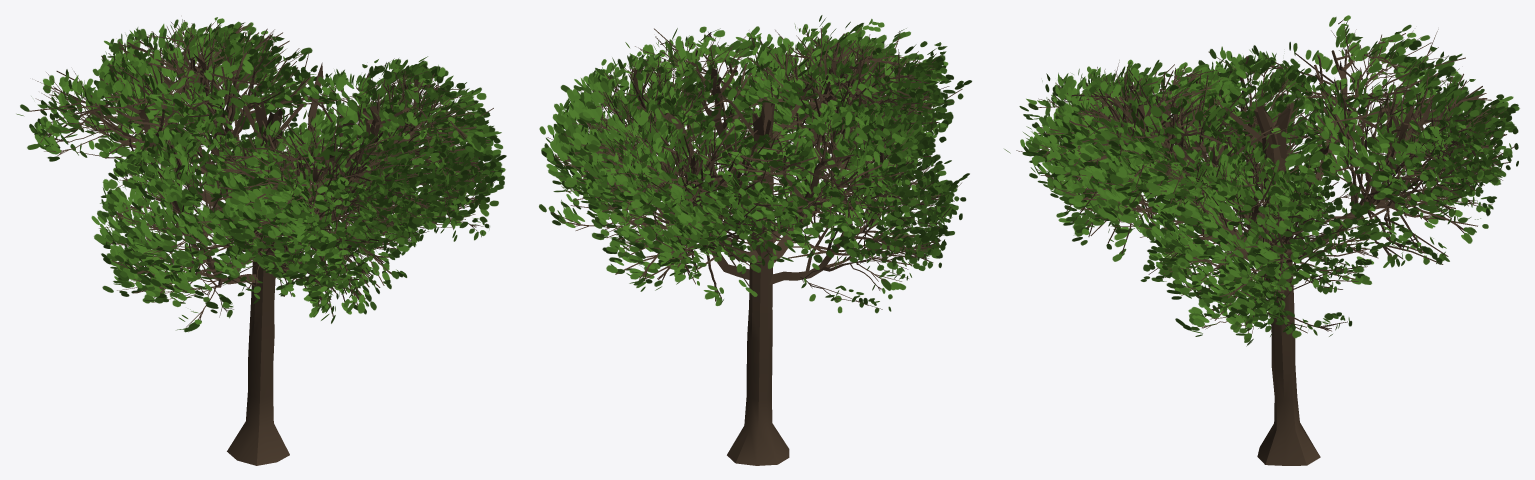
The picture shows the model from 3 angles, left to right: view 1: azimuth 30°, elevation 25°; view 2: azimuth 150°, elevation 25°; view 3: azimuth 270°, elevation 25°; orthographic projection. The views are drawn at different scales.
Visible parts, largest first — view 1: oak 01.001_trunk_Mat.001_0.108; view 2: oak 01.001_trunk_Mat.001_0.108; view 3: oak 01.001_trunk_Mat.001_0.108.
Part boxes in pixels (bbox=[...]): oak 01.001_trunk_Mat.001_0.108: bbox=[16, 17, 506, 465]; oak 01.001_trunk_Mat.001_0.108: bbox=[539, 15, 971, 465]; oak 01.001_trunk_Mat.001_0.108: bbox=[1004, 15, 1519, 465].
Size of the model in its own units: 6.59 by 5.33 by 6.77.
Materials: 2 (1 with a texture image).
